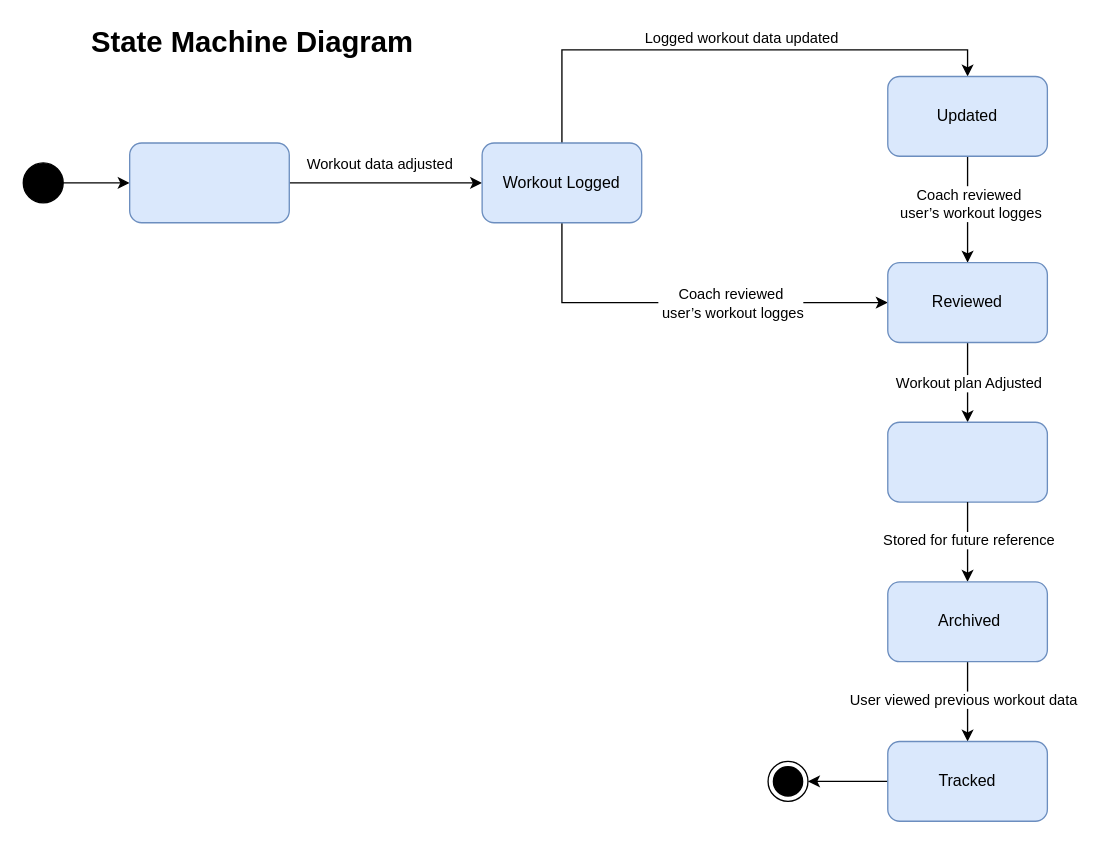
The diagram is 1100 pixels wide and 845 high, and some of its shapes have lost their labels. The centre of each missing label's shape, as x and y in pixels:
Initialized: (x=208, y=182)
Managed: (x=966, y=461)
